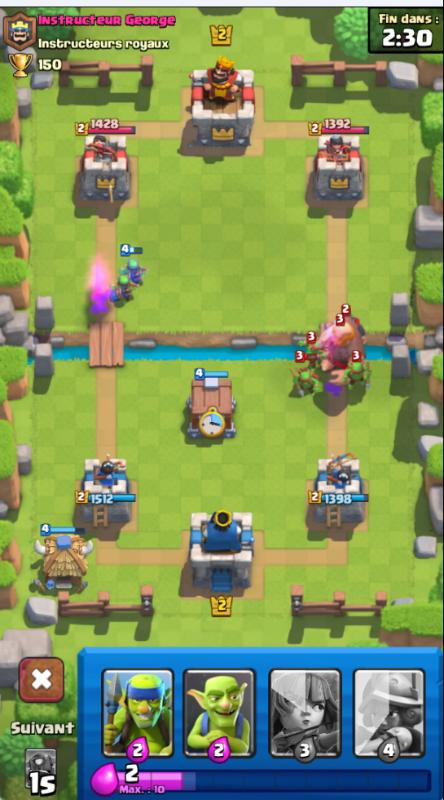chevalier: (341, 304, 368, 347)
geant: (319, 317, 363, 384)
gobelin_lances: (299, 333, 327, 372), (344, 359, 375, 394), (121, 251, 149, 289), (292, 366, 320, 404), (109, 275, 134, 309)
